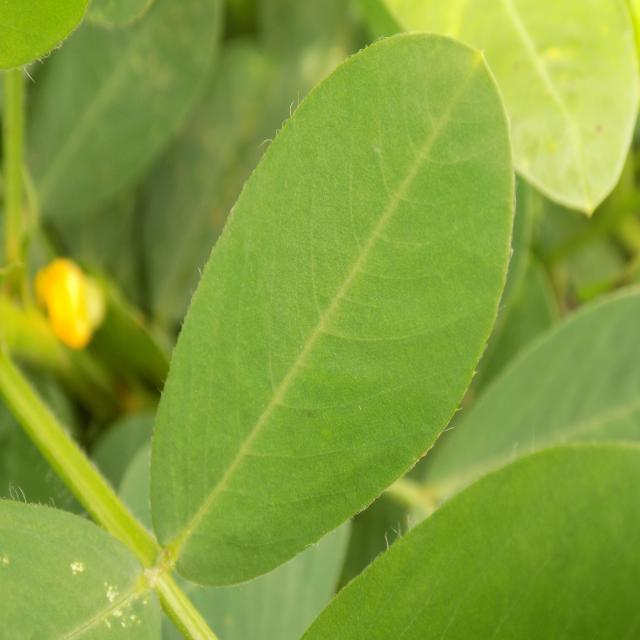Ground nut_healthy: (152, 23, 512, 588)
